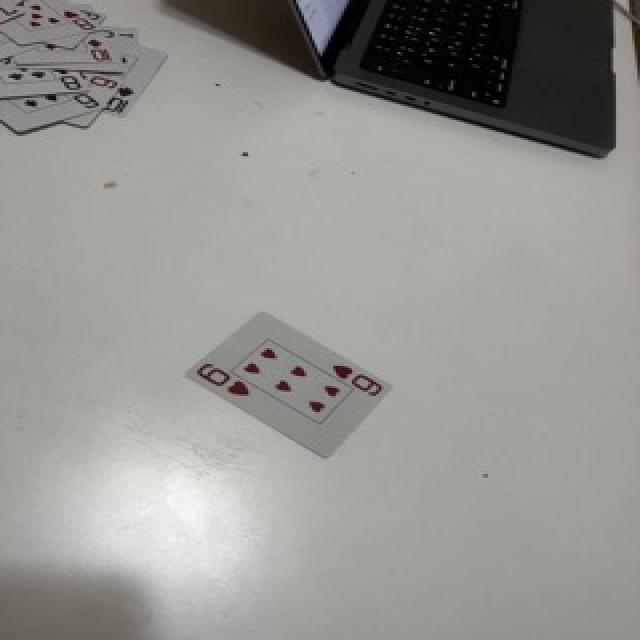6 of hearts: (188, 312, 390, 456)
